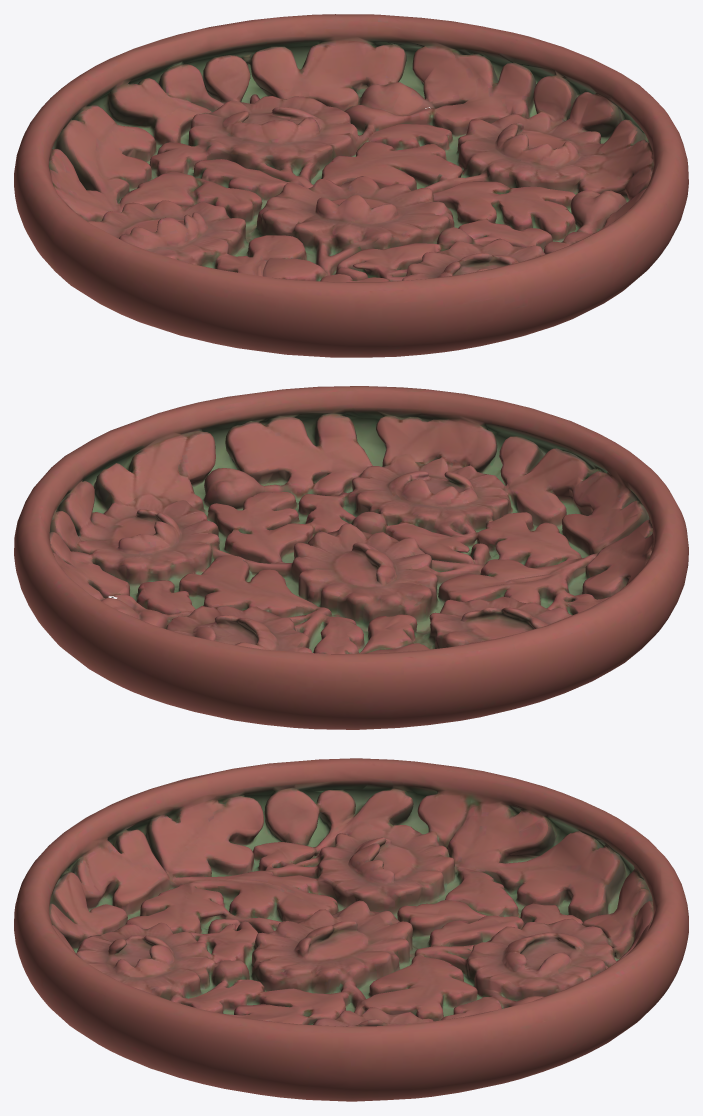
The model's file is 剔紅菊花圓盤.glb.
3 renders of one model, top to bottom at view 1: azimuth 30°, elevation 25°; view 2: azimuth 150°, elevation 25°; view 3: azimuth 270°, elevation 25°, orthographic.
Visible parts, largest first — view 1: tripo_node_d6a6e623; view 2: tripo_node_d6a6e623; view 3: tripo_node_d6a6e623.
Boxes of the visible parts, x1,y1,x2,y2 form: tripo_node_d6a6e623: (14,14,688,357); tripo_node_d6a6e623: (14,386,688,729); tripo_node_d6a6e623: (14,758,688,1101).
Bounding box in the file's own units: 97.92 × 13.63 × 97.61.
Materials: 1 (1 with a texture image).
